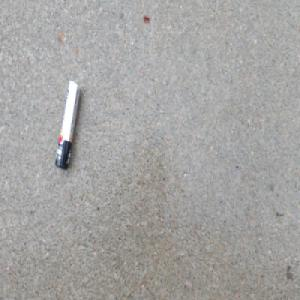Battery: (55, 77, 83, 171)
